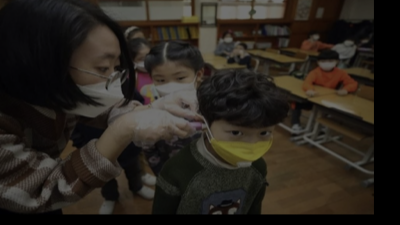with_mask: (68, 49, 124, 119), (204, 117, 274, 168), (149, 66, 197, 99), (131, 50, 149, 73), (317, 56, 338, 73), (343, 38, 354, 48), (223, 35, 232, 44), (312, 34, 320, 41)
